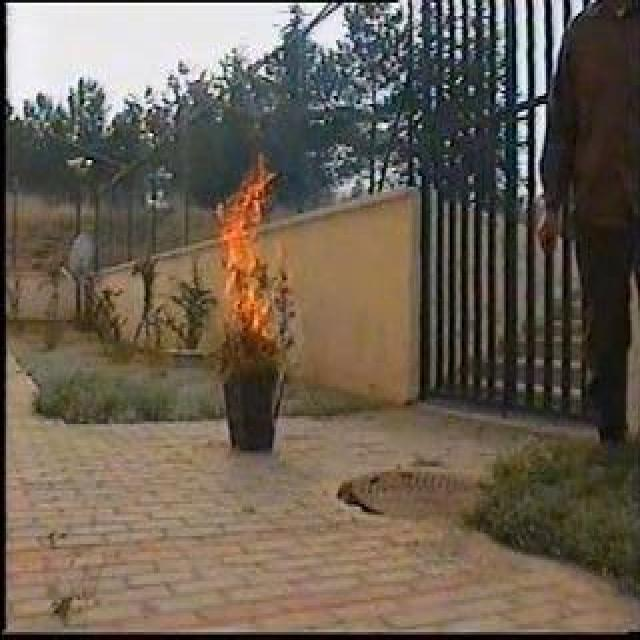fire: (226, 153, 276, 343)
